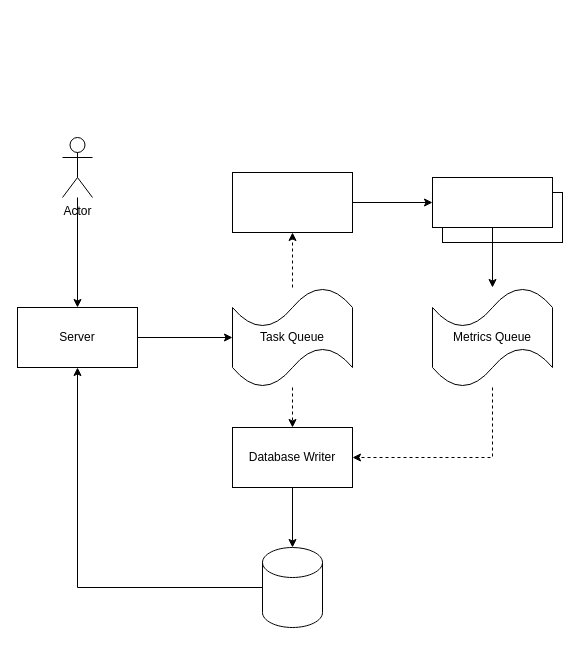
The diagram is 580 pixels wide and 645 high, and some of its shapes have lost their labels. The centre of each missing label's shape, as x and y in pixels:
"Controller" goes at point (292, 202).
"DB" goes at point (292, 587).
"Workers" goes at point (492, 202).
